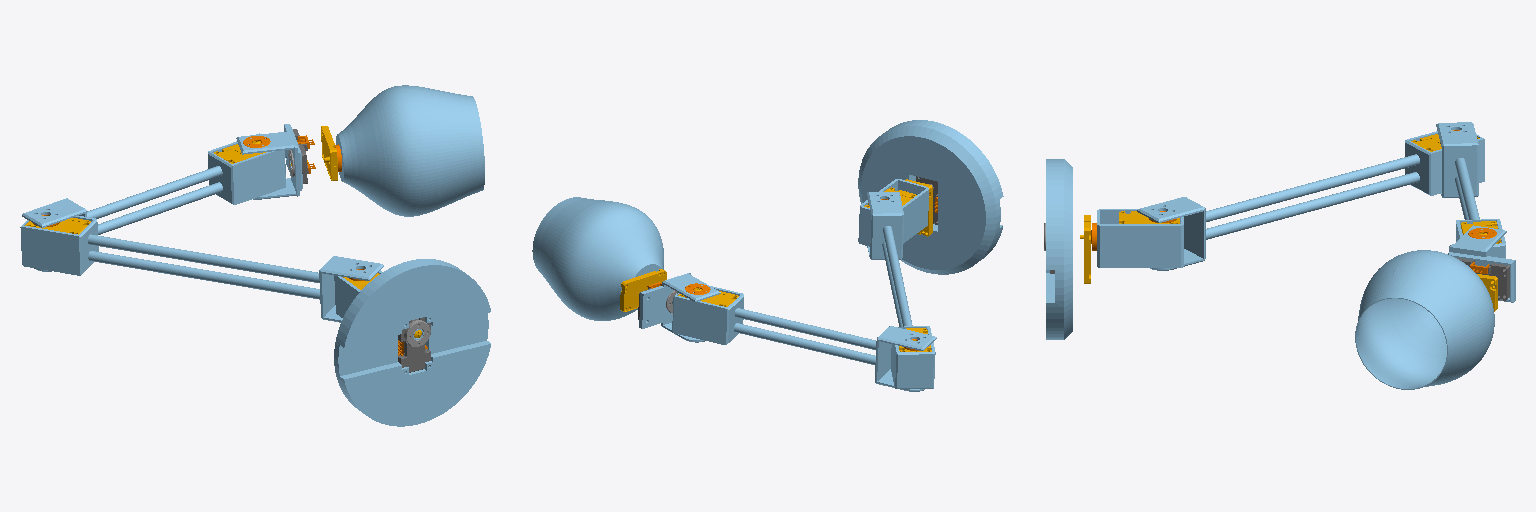
--- What the picture shows (computed from the rendered views, not written in the file) ---
Views: 3 orthographic renders of the robot side by side, from view 1: azimuth 30°, elevation 25°; view 2: azimuth 150°, elevation 25°; view 3: azimuth 270°, elevation 25°.
Robot: lelamp — 6 links, 5 joints (5 revolute); root link dc15_a01_dummy_assy_idle_asm; default pose: every joint at zero.
Visible links, largest first — view 1: dc15_a01_dummy_assy_idle_asm, lamp_head, dc15_a01_dummy_assy_idle_asm_2, arm_length_10cm, angle_joint, square_joint; view 2: dc15_a01_dummy_assy_idle_asm, lamp_head, arm_length_10cm, dc15_a01_dummy_assy_idle_asm_2, angle_joint, square_joint; view 3: lamp_head, dc15_a01_dummy_assy_idle_asm_2, dc15_a01_dummy_assy_idle_asm, square_joint, arm_length_10cm, angle_joint.
Link boxes in pixels (bbox=[...]): dc15_a01_dummy_assy_idle_asm: bbox=[334, 259, 490, 426]; lamp_head: bbox=[336, 85, 484, 216]; dc15_a01_dummy_assy_idle_asm_2: bbox=[20, 215, 383, 322]; arm_length_10cm: bbox=[22, 133, 285, 271]; angle_joint: bbox=[236, 124, 341, 199]; square_joint: bbox=[334, 269, 382, 317]; dc15_a01_dummy_assy_idle_asm: bbox=[858, 120, 1003, 274]; lamp_head: bbox=[532, 197, 663, 320]; arm_length_10cm: bbox=[672, 283, 936, 391]; dc15_a01_dummy_assy_idle_asm_2: bbox=[867, 192, 935, 388]; angle_joint: bbox=[620, 269, 720, 342]; square_joint: bbox=[858, 179, 928, 246]; lamp_head: bbox=[1355, 250, 1494, 389]; dc15_a01_dummy_assy_idle_asm_2: bbox=[1137, 130, 1484, 270]; dc15_a01_dummy_assy_idle_asm: bbox=[1044, 159, 1096, 339]; square_joint: bbox=[1097, 209, 1183, 267]; arm_length_10cm: bbox=[1436, 122, 1505, 258]; angle_joint: bbox=[1448, 225, 1515, 311].
Size in the robot's own frame: 0.2945 by 0.2605 by 0.1 metres.
Meshes: 15 distinct files referenced, 51 mesh visuals loaded (13 binary STL); not drawn: 10 (reference not matched to a file when rendering).

URDF robot description (lelamp):
<?xml version="1.0" ?>
<!-- Generated using onshape-to-robot -->
<!-- Onshape document_id: 7ff6d1fd85a1383ea9f71557 -->
<robot name="lelamp">
  <!-- Link dc15_a01_dummy_assy_idle_asm -->
  <link name="dc15_a01_dummy_assy_idle_asm">
    <inertial>
      <origin xyz="-1.88967e-06 0.00939762 -0.00732928" rpy="0 0 0"/>
      <mass value="0.140913"/>
      <inertia ixx="9.08799e-05" ixy="1.89009e-09" ixz="-1.81155e-09" iyy="0.000163373" iyz="-1.28621e-07" izz="8.05617e-05"/>
    </inertial>
    <!-- Part base -->
    <visual>
      <origin xyz="-1.73472e-18 0.0008 -0.0075" rpy="-1.5708 -0 0"/>
      <geometry>
        <mesh filename="package://assets/base.stl"/>
      </geometry>
      <material name="base_material">
        <color rgba="0.615686 0.811765 0.929412 1"/>
      </material>
    </visual>
    <collision>
      <origin xyz="-1.73472e-18 0.0008 -0.0075" rpy="-1.5708 -0 0"/>
      <geometry>
        <mesh filename="package://assets/base.stl"/>
      </geometry>
    </collision>
    <!-- Part dc15_a01_led_cap2_dummy -->
    <visual>
      <origin xyz="0 0.0047 0.0075" rpy="1.5708 -0 0"/>
      <geometry>
        <mesh filename="package://assets/dc15_a01_led_cap2_dummy.stl"/>
      </geometry>
      <material name="dc15_a01_led_cap2_dummy_material">
        <color rgba="0.768627 0.886275 0.952941 1"/>
      </material>
    </visual>
    <collision>
      <origin xyz="0 0.0047 0.0075" rpy="1.5708 -0 0"/>
      <geometry>
        <mesh filename="package://assets/dc15_a01_led_cap2_dummy.stl"/>
      </geometry>
    </collision>
    <!-- Part bts2_m2_6x8 -->
    <visual>
      <origin xyz="0 0.0272 0" rpy="0 -0 0"/>
      <geometry>
        <mesh filename="package://assets/bts2_m2_6x8.stl"/>
      </geometry>
      <material name="bts2_m2_6x8_material">
        <color rgba="0.980392 0.713725 0.00392157 1"/>
      </material>
    </visual>
    <collision>
      <origin xyz="0 0.0272 0" rpy="0 -0 0"/>
      <geometry>
        <mesh filename="package://assets/bts2_m2_6x8.stl"/>
      </geometry>
    </collision>
    <!-- Part b3b_eh -->
    <visual>
      <origin xyz="0.0077 0.0119 -0.009" rpy="-3.14159 -1.5708 0"/>
      <geometry>
        <mesh filename="package://assets/b3b_eh.stl"/>
      </geometry>
      <material name="b3b_eh_material">
        <color rgba="0.972549 0.529412 0.00392157 1"/>
      </material>
    </visual>
    <collision>
      <origin xyz="0.0077 0.0119 -0.009" rpy="-3.14159 -1.5708 0"/>
      <geometry>
        <mesh filename="package://assets/b3b_eh.stl"/>
      </geometry>
    </collision>
    <!-- Part b3b_eh_2 -->
    <visual>
      <origin xyz="-0.0077 0.0119 -0.009" rpy="-3.14159 1.5708 0"/>
      <geometry>
        <mesh filename="package://assets/b3b_eh.stl"/>
      </geometry>
      <material name="b3b_eh_2_material">
        <color rgba="0.972549 0.529412 0.00392157 1"/>
      </material>
    </visual>
    <collision>
      <origin xyz="-0.0077 0.0119 -0.009" rpy="-3.14159 1.5708 0"/>
      <geometry>
        <mesh filename="package://assets/b3b_eh.stl"/>
      </geometry>
    </collision>
    <!-- Part dc15_a01_case_m_dummy -->
    <visual>
      <origin xyz="0 0.0223 0" rpy="1.5708 -0 3.14159"/>
      <geometry>
        <mesh filename="package://assets/dc15_a01_case_m_dummy.stl"/>
      </geometry>
      <material name="dc15_a01_case_m_dummy_material">
        <color rgba="0.615686 0.811765 0.929412 1"/>
      </material>
    </visual>
    <collision>
      <origin xyz="0 0.0223 0" rpy="1.5708 -0 3.14159"/>
      <geometry>
        <mesh filename="package://assets/dc15_a01_case_m_dummy.stl"/>
      </geometry>
    </collision>
    <!-- Part bts2_m2_6x8_2 -->
    <visual>
      <origin xyz="0 0.0016 0" rpy="0 -0 3.14159"/>
      <geometry>
        <mesh filename="package://assets/bts2_m2_6x8.stl"/>
      </geometry>
      <material name="bts2_m2_6x8_2_material">
        <color rgba="0.980392 0.713725 0.00392157 1"/>
      </material>
    </visual>
    <collision>
      <origin xyz="0 0.0016 0" rpy="0 -0 3.14159"/>
      <geometry>
        <mesh filename="package://assets/bts2_m2_6x8.stl"/>
      </geometry>
    </collision>
    <!-- Part dc15_a01_horn_dummy -->
    <visual>
      <origin xyz="0 0.0259 0" rpy="0 -0 0"/>
      <geometry>
        <mesh filename="package://assets/dc15_a01_horn_dummy.stl"/>
      </geometry>
      <material name="dc15_a01_horn_dummy_material">
        <color rgba="0.972549 0.529412 0.00392157 1"/>
      </material>
    </visual>
    <collision>
      <origin xyz="0 0.0259 0" rpy="0 -0 0"/>
      <geometry>
        <mesh filename="package://assets/dc15_a01_horn_dummy.stl"/>
      </geometry>
    </collision>
    <!-- Part dc15_a01_case_f_dummy -->
    <visual>
      <origin xyz="0 0.0223 0" rpy="1.5708 -0 3.14159"/>
      <geometry>
        <mesh filename="package://assets/dc15_a01_case_f_dummy.stl"/>
      </geometry>
      <material name="dc15_a01_case_f_dummy_material">
        <color rgba="0.980392 0.713725 0.00392157 1"/>
      </material>
    </visual>
    <collision>
      <origin xyz="0 0.0223 0" rpy="1.5708 -0 3.14159"/>
      <geometry>
        <mesh filename="package://assets/dc15_a01_case_f_dummy.stl"/>
      </geometry>
    </collision>
    <!-- Part dc15_a01_case_b_dummy -->
    <visual>
      <origin xyz="0 0.0028 0" rpy="1.5708 -0 3.14159"/>
      <geometry>
        <mesh filename="package://assets/dc15_a01_case_b_dummy.stl"/>
      </geometry>
      <material name="dc15_a01_case_b_dummy_material">
        <color rgba="0.498039 0.498039 0.498039 1"/>
      </material>
    </visual>
    <collision>
      <origin xyz="0 0.0028 0" rpy="1.5708 -0 3.14159"/>
      <geometry>
        <mesh filename="package://assets/dc15_a01_case_b_dummy.stl"/>
      </geometry>
    </collision>
    <!-- Part dc15_a01_horn_idle2_dummy -->
    <visual>
      <origin xyz="0 0.0027 0" rpy="-1.5708 -0 3.14159"/>
      <geometry>
        <mesh filename="package://assets/dc15_a01_horn_idle2_dummy.stl"/>
      </geometry>
      <material name="dc15_a01_horn_idle2_dummy_material">
        <color rgba="0.647059 0.647059 0.647059 1"/>
      </material>
    </visual>
    <collision>
      <origin xyz="0 0.0027 0" rpy="-1.5708 -0 3.14159"/>
      <geometry>
        <mesh filename="package://assets/dc15_a01_horn_idle2_dummy.stl"/>
      </geometry>
    </collision>
    <!-- Part dc15_a01_idle_cap_dummy -->
    <visual>
      <origin xyz="0 -7.80626e-18 0" rpy="0 -0 3.14159"/>
      <geometry>
        <mesh filename="package://assets/dc15_a01_idle_cap_dummy.stl"/>
      </geometry>
      <material name="dc15_a01_idle_cap_dummy_material">
        <color rgba="0.615686 0.811765 0.929412 1"/>
      </material>
    </visual>
    <collision>
      <origin xyz="0 -7.80626e-18 0" rpy="0 -0 3.14159"/>
      <geometry>
        <mesh filename="package://assets/dc15_a01_idle_cap_dummy.stl"/>
      </geometry>
    </collision>
  </link>
  <!-- Link square_joint -->
  <link name="square_joint">
    <inertial>
      <origin xyz="-8.75044e-06 -0.000538186 0.0283784" rpy="0 0 0"/>
      <mass value="0.0304303"/>
      <inertia ixx="6.68219e-06" ixy="6.6143e-10" ixz="-1.534e-09" iyy="6.31947e-06" iyz="-1.78501e-07" izz="3.33001e-06"/>
    </inertial>
    <!-- Part square_joint -->
    <visual>
      <origin xyz="-5.83045e-36 0 0" rpy="0 -0 -1.31899e-18"/>
      <geometry>
        <mesh filename="package://assets/square_joint.stl"/>
      </geometry>
      <material name="square_joint_material">
        <color rgba="0.615686 0.811765 0.929412 1"/>
      </material>
    </visual>
    <collision>
      <origin xyz="-5.83045e-36 0 0" rpy="0 -0 -1.31899e-18"/>
      <geometry>
        <mesh filename="package://assets/square_joint.stl"/>
      </geometry>
    </collision>
    <!-- Part dc15_a01_led_cap2_dummy_2 -->
    <visual>
      <origin xyz="-8.35134e-18 -0.00985 0.04425" rpy="1.5708 -0 -1.31899e-18"/>
      <geometry>
        <mesh filename="package://assets/dc15_a01_led_cap2_dummy.stl"/>
      </geometry>
      <material name="dc15_a01_led_cap2_dummy_2_material">
        <color rgba="0.768627 0.886275 0.952941 1"/>
      </material>
    </visual>
    <collision>
      <origin xyz="-8.35134e-18 -0.00985 0.04425" rpy="1.5708 -0 -1.31899e-18"/>
      <geometry>
        <mesh filename="package://assets/dc15_a01_led_cap2_dummy.stl"/>
      </geometry>
    </collision>
    <!-- Part bts2_m2_6x8_3 -->
    <visual>
      <origin xyz="2.12657e-18 0.01265 0.03675" rpy="0 -0 -1.31899e-18"/>
      <geometry>
        <mesh filename="package://assets/bts2_m2_6x8.stl"/>
      </geometry>
      <material name="bts2_m2_6x8_3_material">
        <color rgba="0.980392 0.713725 0.00392157 1"/>
      </material>
    </visual>
    <collision>
      <origin xyz="2.12657e-18 0.01265 0.03675" rpy="0 -0 -1.31899e-18"/>
      <geometry>
        <mesh filename="package://assets/bts2_m2_6x8.stl"/>
      </geometry>
    </collision>
    <!-- Part b3b_eh_3 -->
    <visual>
      <origin xyz="0.0077 -0.00265 0.02775" rpy="3.14159 -1.5708 0"/>
      <geometry>
        <mesh filename="package://assets/b3b_eh.stl"/>
      </geometry>
      <material name="b3b_eh_3_material">
        <color rgba="0.972549 0.529412 0.00392157 1"/>
      </material>
    </visual>
    <collision>
      <origin xyz="0.0077 -0.00265 0.02775" rpy="3.14159 -1.5708 0"/>
      <geometry>
        <mesh filename="package://assets/b3b_eh.stl"/>
      </geometry>
    </collision>
    <!-- Part b3b_eh_4 -->
    <visual>
      <origin xyz="-0.0077 -0.00265 0.02775" rpy="-3.14159 1.5708 0"/>
      <geometry>
        <mesh filename="package://assets/b3b_eh.stl"/>
      </geometry>
      <material name="b3b_eh_4_material">
        <color rgba="0.972549 0.529412 0.00392157 1"/>
      </material>
    </visual>
    <collision>
      <origin xyz="-0.0077 -0.00265 0.02775" rpy="-3.14159 1.5708 0"/>
      <geometry>
        <mesh filename="package://assets/b3b_eh.stl"/>
      </geometry>
    </collision>
    <!-- Part dc15_a01_case_m_dummy_2 -->
    <visual>
      <origin xyz="-5.2338e-18 0.00775 0.03675" rpy="1.5708 -0 3.14159"/>
      <geometry>
        <mesh filename="package://assets/dc15_a01_case_m_dummy.stl"/>
      </geometry>
      <material name="dc15_a01_case_m_dummy_2_material">
        <color rgba="0.615686 0.811765 0.929412 1"/>
      </material>
    </visual>
    <collision>
      <origin xyz="-5.2338e-18 0.00775 0.03675" rpy="1.5708 -0 3.14159"/>
      <geometry>
        <mesh filename="package://assets/dc15_a01_case_m_dummy.stl"/>
      </geometry>
    </collision>
    <!-- Part bts2_m2_6x8_4 -->
    <visual>
      <origin xyz="-3.14793e-18 -0.01295 0.03675" rpy="0 -0 3.14159"/>
      <geometry>
        <mesh filename="package://assets/bts2_m2_6x8.stl"/>
      </geometry>
      <material name="bts2_m2_6x8_4_material">
        <color rgba="0.980392 0.713725 0.00392157 1"/>
      </material>
    </visual>
    <collision>
      <origin xyz="-3.14793e-18 -0.01295 0.03675" rpy="0 -0 3.14159"/>
      <geometry>
        <mesh filename="package://assets/bts2_m2_6x8.stl"/>
      </geometry>
    </collision>
    <!-- Part dc15_a01_horn_dummy_2 -->
    <visual>
      <origin xyz="1.44112e-20 0.01135 0.03675" rpy="0 -0 -1.31899e-18"/>
      <geometry>
        <mesh filename="package://assets/dc15_a01_horn_dummy.stl"/>
      </geometry>
      <material name="dc15_a01_horn_dummy_2_material">
        <color rgba="0.972549 0.529412 0.00392157 1"/>
      </material>
    </visual>
    <collision>
      <origin xyz="1.44112e-20 0.01135 0.03675" rpy="0 -0 -1.31899e-18"/>
      <geometry>
        <mesh filename="package://assets/dc15_a01_horn_dummy.stl"/>
      </geometry>
    </collision>
    <!-- Part dc15_a01_case_f_dummy_2 -->
    <visual>
      <origin xyz="-5.2338e-18 0.00775 0.03675" rpy="1.5708 -0 3.14159"/>
      <geometry>
        <mesh filename="package://assets/dc15_a01_case_f_dummy.stl"/>
      </geometry>
      <material name="dc15_a01_case_f_dummy_2_material">
        <color rgba="0.980392 0.713725 0.00392157 1"/>
      </material>
    </visual>
    <collision>
      <origin xyz="-5.2338e-18 0.00775 0.03675" rpy="1.5708 -0 3.14159"/>
      <geometry>
        <mesh filename="package://assets/dc15_a01_case_f_dummy.stl"/>
      </geometry>
    </collision>
    <!-- Part dc15_a01_case_b_dummy_2 -->
    <visual>
      <origin xyz="-3.4043e-18 -0.01175 0.03675" rpy="1.5708 -0 3.14159"/>
      <geometry>
        <mesh filename="package://assets/dc15_a01_case_b_dummy.stl"/>
      </geometry>
      <material name="dc15_a01_case_b_dummy_2_material">
        <color rgba="0.498039 0.498039 0.498039 1"/>
      </material>
    </visual>
    <collision>
      <origin xyz="-3.4043e-18 -0.01175 0.03675" rpy="1.5708 -0 3.14159"/>
      <geometry>
        <mesh filename="package://assets/dc15_a01_case_b_dummy.stl"/>
      </geometry>
    </collision>
    <!-- Part dc15_a01_horn_idle2_dummy_2 -->
    <visual>
      <origin xyz="-6.61309e-19 -0.01185 0.03675" rpy="-1.5708 -0 3.14159"/>
      <geometry>
        <mesh filename="package://assets/dc15_a01_horn_idle2_dummy.stl"/>
      </geometry>
      <material name="dc15_a01_horn_idle2_dummy_2_material">
        <color rgba="0.647059 0.647059 0.647059 1"/>
      </material>
    </visual>
    <collision>
      <origin xyz="-6.61309e-19 -0.01185 0.03675" rpy="-1.5708 -0 3.14159"/>
      <geometry>
        <mesh filename="package://assets/dc15_a01_horn_idle2_dummy.stl"/>
      </geometry>
    </collision>
    <!-- Part dc15_a01_idle_cap_dummy_2 -->
    <visual>
      <origin xyz="-1.47751e-17 -0.01455 0.03675" rpy="0 -0 3.14159"/>
      <geometry>
        <mesh filename="package://assets/dc15_a01_idle_cap_dummy.stl"/>
      </geometry>
      <material name="dc15_a01_idle_cap_dummy_2_material">
        <color rgba="0.615686 0.811765 0.929412 1"/>
      </material>
    </visual>
    <collision>
      <origin xyz="-1.47751e-17 -0.01455 0.03675" rpy="0 -0 3.14159"/>
      <geometry>
        <mesh filename="package://assets/dc15_a01_idle_cap_dummy.stl"/>
      </geometry>
    </collision>
  </link>
  <!-- Link dc15_a01_dummy_assy_idle_asm_2 -->
  <link name="dc15_a01_dummy_assy_idle_asm_2">
    <inertial>
      <origin xyz="0.0876363 -0.123134 -0.0137912" rpy="0 0 0"/>
      <mass value="0.0439213"/>
      <inertia ixx="0.000130113" ixy="8.9603e-05" ixz="-5.40198e-07" iyy="6.81333e-05" iyz="7.5607e-07" izz="0.000192616"/>
    </inertial>
    <!-- Part arm_length_15cm -->
    <visual>
      <origin xyz="6.88141e-18 -2.77556e-17 0.002" rpy="-3.14159 1.61703e-16 0.617782"/>
      <geometry>
        <mesh filename="package://assets/arm_length_15cm.stl"/>
      </geometry>
      <material name="arm_length_15cm_material">
        <color rgba="0.615686 0.811765 0.929412 1"/>
      </material>
    </visual>
    <collision>
      <origin xyz="6.88141e-18 -2.77556e-17 0.002" rpy="-3.14159 1.61703e-16 0.617782"/>
      <geometry>
        <mesh filename="package://assets/arm_length_15cm.stl"/>
      </geometry>
    </collision>
    <!-- Part dc15_a01_led_cap2_dummy_3 -->
    <visual>
      <origin xyz="0.119959 -0.168391 -0.0231" rpy="3.14159 3.6742e-17 0.617782"/>
      <geometry>
        <mesh filename="package://assets/dc15_a01_led_cap2_dummy.stl"/>
      </geometry>
      <material name="dc15_a01_led_cap2_dummy_3_material">
        <color rgba="0.768627 0.886275 0.952941 1"/>
      </material>
    </visual>
    <collision>
      <origin xyz="0.119959 -0.168391 -0.0231" rpy="3.14159 3.6742e-17 0.617782"/>
      <geometry>
        <mesh filename="package://assets/dc15_a01_led_cap2_dummy.stl"/>
      </geometry>
    </collision>
    <!-- Part bts2_m2_6x8_5 -->
    <visual>
      <origin xyz="0.115615 -0.162277 -0.0006" rpy="1.5708 3.6742e-17 0.617782"/>
      <geometry>
        <mesh filename="package://assets/bts2_m2_6x8.stl"/>
      </geometry>
      <material name="bts2_m2_6x8_5_material">
        <color rgba="0.980392 0.713725 0.00392157 1"/>
      </material>
    </visual>
    <collision>
      <origin xyz="0.115615 -0.162277 -0.0006" rpy="1.5708 3.6742e-17 0.617782"/>
      <geometry>
        <mesh filename="package://assets/bts2_m2_6x8.stl"/>
      </geometry>
    </collision>
    <!-- Part b3b_eh_5 -->
    <visual>
      <origin xyz="0.116679 -0.15048 -0.0159" rpy="-1.5708 -3.63721e-15 -0.953015"/>
      <geometry>
        <mesh filename="package://assets/b3b_eh.stl"/>
      </geometry>
      <material name="b3b_eh_5_material">
        <color rgba="0.972549 0.529412 0.00392157 1"/>
      </material>
    </visual>
    <collision>
      <origin xyz="0.116679 -0.15048 -0.0159" rpy="-1.5708 -3.63721e-15 -0.953015"/>
      <geometry>
        <mesh filename="package://assets/b3b_eh.stl"/>
      </geometry>
    </collision>
    <!-- Part b3b_eh_6 -->
    <visual>
      <origin xyz="0.104125 -0.1594 -0.0159" rpy="-1.5708 3.63721e-15 2.18858"/>
      <geometry>
        <mesh filename="package://assets/b3b_eh.stl"/>
      </geometry>
      <material name="b3b_eh_6_material">
        <color rgba="0.972549 0.529412 0.00392157 1"/>
      </material>
    </visual>
    <collision>
      <origin xyz="0.104125 -0.1594 -0.0159" rpy="-1.5708 3.63721e-15 2.18858"/>
      <geometry>
        <mesh filename="package://assets/b3b_eh.stl"/>
      </geometry>
    </collision>
    <!-- Part dc15_a01_case_m_dummy_3 -->
    <visual>
      <origin xyz="0.115615 -0.162277 -0.0055" rpy="3.63721e-15 -3.6742e-17 -2.52381"/>
      <geometry>
        <mesh filename="package://assets/dc15_a01_case_m_dummy.stl"/>
      </geometry>
      <material name="dc15_a01_case_m_dummy_3_material">
        <color rgba="0.615686 0.811765 0.929412 1"/>
      </material>
    </visual>
    <collision>
      <origin xyz="0.115615 -0.162277 -0.0055" rpy="3.63721e-15 -3.6742e-17 -2.52381"/>
      <geometry>
        <mesh filename="package://assets/dc15_a01_case_m_dummy.stl"/>
      </geometry>
    </collision>
    <!-- Part bts2_m2_6x8_6 -->
    <visual>
      <origin xyz="0.115615 -0.162277 -0.0262" rpy="-1.5708 -3.6742e-17 -2.52381"/>
      <geometry>
        <mesh filename="package://assets/bts2_m2_6x8.stl"/>
      </geometry>
      <material name="bts2_m2_6x8_6_material">
        <color rgba="0.980392 0.713725 0.00392157 1"/>
      </material>
    </visual>
    <collision>
      <origin xyz="0.115615 -0.162277 -0.0262" rpy="-1.5708 -3.6742e-17 -2.52381"/>
      <geometry>
        <mesh filename="package://assets/bts2_m2_6x8.stl"/>
      </geometry>
    </collision>
    <!-- Part dc15_a01_horn_dummy_3 -->
    <visual>
      <origin xyz="0.115615 -0.162277 -0.0019" rpy="1.5708 3.6742e-17 0.617782"/>
      <geometry>
        <mesh filename="package://assets/dc15_a01_horn_dummy.stl"/>
      </geometry>
      <material name="dc15_a01_horn_dummy_3_material">
        <color rgba="0.972549 0.529412 0.00392157 1"/>
      </material>
    </visual>
    <collision>
      <origin xyz="0.115615 -0.162277 -0.0019" rpy="1.5708 3.6742e-17 0.617782"/>
      <geometry>
        <mesh filename="package://assets/dc15_a01_horn_dummy.stl"/>
      </geometry>
    </collision>
    <!-- Part dc15_a01_case_f_dummy_3 -->
    <visual>
      <origin xyz="0.115615 -0.162277 -0.0055" rpy="3.63721e-15 -3.6742e-17 -2.52381"/>
      <geometry>
        <mesh filename="package://assets/dc15_a01_case_f_dummy.stl"/>
      </geometry>
      <material name="dc15_a01_case_f_dummy_3_material">
        <color rgba="0.980392 0.713725 0.00392157 1"/>
      </material>
    </visual>
    <collision>
      <origin xyz="0.115615 -0.162277 -0.0055" rpy="3.63721e-15 -3.6742e-17 -2.52381"/>
      <geometry>
        <mesh filename="package://assets/dc15_a01_case_f_dummy.stl"/>
      </geometry>
    </collision>
    <!-- Part dc15_a01_case_b_dummy_3 -->
    <visual>
      <origin xyz="0.115615 -0.162277 -0.025" rpy="3.63721e-15 -3.6742e-17 -2.52381"/>
      <geometry>
        <mesh filename="package://assets/dc15_a01_case_b_dummy.stl"/>
      </geometry>
      <material name="dc15_a01_case_b_dummy_3_material">
        <color rgba="0.498039 0.498039 0.498039 1"/>
      </material>
    </visual>
    <collision>
      <origin xyz="0.115615 -0.162277 -0.025" rpy="3.63721e-15 -3.6742e-17 -2.52381"/>
      <geometry>
        <mesh filename="package://assets/dc15_a01_case_b_dummy.stl"/>
      </geometry>
    </collision>
    <!-- Part dc15_a01_horn_idle2_dummy_3 -->
    <visual>
      <origin xyz="0.115615 -0.162277 -0.0251" rpy="-3.14159 -3.6742e-17 -2.52381"/>
      <geometry>
        <mesh filename="package://assets/dc15_a01_horn_idle2_dummy.stl"/>
      </geometry>
      <material name="dc15_a01_horn_idle2_dummy_3_material">
        <color rgba="0.647059 0.647059 0.647059 1"/>
      </material>
    </visual>
    <collision>
      <origin xyz="0.115615 -0.162277 -0.0251" rpy="-3.14159 -3.6742e-17 -2.52381"/>
      <geometry>
        <mesh filename="package://assets/dc15_a01_horn_idle2_dummy.stl"/>
      </geometry>
    </collision>
    <!-- Part dc15_a01_idle_cap_dummy_3 -->
    <visual>
      <origin xyz="0.115615 -0.162277 -0.0278" rpy="-1.5708 -3.6742e-17 -2.52381"/>
      <geometry>
        <mesh filename="package://assets/dc15_a01_idle_cap_dummy.stl"/>
      </geometry>
      <material name="dc15_a01_idle_cap_dummy_3_material">
        <color rgba="0.615686 0.811765 0.929412 1"/>
      </material>
    </visual>
    <collision>
      <origin xyz="0.115615 -0.162277 -0.0278" rpy="-1.5708 -3.6742e-17 -2.52381"/>
      <geometry>
        <mesh filename="package://assets/dc15_a01_idle_cap_dummy.stl"/>
      </geometry>
    </collision>
  </link>
  <!-- Link arm_length_10cm -->
  <link name="arm_length_10cm">
    <inertial>
      <origin xyz="0.000125498 -0.115742 -0.013751" rpy="0 0 0"/>
      <mass value="0.040387"/>
      <inertia ixx="9.51594e-05" ixy="1.396e-07" ixz="-2.20999e-09" iyy="4.19848e-06" iyz="6.104e-07" izz="9.39396e-05"/>
    </inertial>
    <!-- Part arm_length_10cm -->
    <visual>
      <origin xyz="2.77556e-17 1.38778e-17 0.002" rpy="3.14159 3.48352e-19 -9.71169e-18"/>
      <geometry>
        <mesh filename="package://assets/arm_length_10cm.stl"/>
      </geometry>
      <material name="arm_length_10cm_material">
        <color rgba="0.615686 0.811765 0.929412 1"/>
      </material>
    </visual>
    <collision>
      <origin xyz="2.77556e-17 1.38778e-17 0.002" rpy="3.14159 3.48352e-19 -9.71169e-18"/>
      <geometry>
        <mesh filename="package://assets/arm_length_10cm.stl"/>
      </geometry>
    </collision>
    <!-- Part dc15_a01_led_cap2_dummy_4 -->
    <visual>
      <origin xyz="0.00025 -0.15675 -0.0231" rpy="-3.14159 -3.0807e-17 1.5375e-16"/>
      <geometry>
        <mesh filename="package://assets/dc15_a01_led_cap2_dummy.stl"/>
      </geometry>
      <material name="dc15_a01_led_cap2_dummy_4_material">
        <color rgba="0.768627 0.886275 0.952941 1"/>
      </material>
    </visual>
    <collision>
      <origin xyz="0.00025 -0.15675 -0.0231" rpy="-3.14159 -3.0807e-17 1.5375e-16"/>
      <geometry>
        <mesh filename="package://assets/dc15_a01_led_cap2_dummy.stl"/>
      </geometry>
    </collision>
    <!-- Part bts2_m2_6x8_7 -->
    <visual>
      <origin xyz="0.00025 -0.14925 -0.0006" rpy="1.5708 1.12133e-14 1.83203e-14"/>
      <geometry>
        <mesh filename="package://assets/bts2_m2_6x8.stl"/>
      </geometry>
      <material name="bts2_m2_6x8_7_material">
        <color rgba="0.980392 0.713725 0.00392157 1"/>
      </material>
    </visual>
    <collision>
      <origin xyz="0.00025 -0.14925 -0.0006" rpy="1.5708 1.12133e-14 1.83203e-14"/>
      <geometry>
        <mesh filename="package://assets/bts2_m2_6x8.stl"/>
      </geometry>
    </collision>
    <!-- Part b3b_eh_7 -->
    <visual>
      <origin xyz="0.00795 -0.14025 -0.0159" rpy="-1.5708 8.71289e-16 -1.5708"/>
      <geometry>
        <mesh filename="package://assets/b3b_eh.stl"/>
      </geometry>
      <material name="b3b_eh_7_material">
        <color rgba="0.972549 0.529412 0.00392157 1"/>
      </material>
    </visual>
    <collision>
      <origin xyz="0.00795 -0.14025 -0.0159" rpy="-1.5708 8.71289e-16 -1.5708"/>
      <geometry>
        <mesh filename="package://assets/b3b_eh.stl"/>
      </geometry>
    </collision>
    <!-- Part b3b_eh_8 -->
    <visual>
      <origin xyz="-0.00745 -0.14025 -0.0159" rpy="-1.5708 -8.71289e-16 1.5708"/>
      <geometry>
        <mesh filename="package://assets/b3b_eh.stl"/>
      </geometry>
      <material name="b3b_eh_8_material">
        <color rgba="0.972549 0.529412 0.00392157 1"/>
      </material>
    </visual>
    <collision>
      <origin xyz="-0.00745 -0.14025 -0.0159" rpy="-1.5708 -8.71289e-16 1.5708"/>
      <geometry>
        <mesh filename="package://assets/b3b_eh.stl"/>
      </geometry>
    </collision>
    <!-- Part dc15_a01_case_m_dummy_4 -->
    <visual>
      <origin xyz="0.00025 -0.14925 -0.0055" rpy="-8.99025e-16 3.0807e-17 -3.14159"/>
      <geometry>
        <mesh filename="package://assets/dc15_a01_case_m_dummy.stl"/>
      </geometry>
      <material name="dc15_a01_case_m_dummy_4_material">
        <color rgba="0.615686 0.811765 0.929412 1"/>
      </material>
    </visual>
    <collision>
      <origin xyz="0.00025 -0.14925 -0.0055" rpy="-8.99025e-16 3.0807e-17 -3.14159"/>
      <geometry>
        <mesh filename="package://assets/dc15_a01_case_m_dummy.stl"/>
      </geometry>
    </collision>
    <!-- Part bts2_m2_6x8_8 -->
    <visual>
      <origin xyz="0.00025 -0.14925 -0.0262" rpy="-1.5708 3.82232e-14 -3.14159"/>
      <geometry>
        <mesh filename="package://assets/bts2_m2_6x8.stl"/>
      </geometry>
      <material name="bts2_m2_6x8_8_material">
        <color rgba="0.980392 0.713725 0.00392157 1"/>
      </material>
    </visual>
    <collision>
      <origin xyz="0.00025 -0.14925 -0.0262" rpy="-1.5708 3.82232e-14 -3.14159"/>
      <geometry>
        <mesh filename="package://assets/bts2_m2_6x8.stl"/>
      </geometry>
    </collision>
    <!-- Part dc15_a01_horn_dummy_4 -->
    <visual>
      <origin xyz="0.00025 -0.14925 -0.0019" rpy="1.5708 1.12133e-14 1.83203e-14"/>
      <geometry>
        <mesh filename="package://assets/dc15_a01_horn_dummy.stl"/>
      </geometry>
      <material name="dc15_a01_horn_dummy_4_material">
        <color rgba="0.972549 0.529412 0.00392157 1"/>
      </material>
    </visual>
    <collision>
      <origin xyz="0.00025 -0.14925 -0.0019" rpy="1.5708 1.12133e-14 1.83203e-14"/>
      <geometry>
        <mesh filename="package://assets/dc15_a01_horn_dummy.stl"/>
      </geometry>
    </collision>
    <!-- Part dc15_a01_case_f_dummy_4 -->
    <visual>
      <origin xyz="0.00025 -0.14925 -0.0055" rpy="-8.99025e-16 3.0807e-17 -3.14159"/>
      <geometry>
        <mesh filename="package://assets/dc15_a01_case_f_dummy.stl"/>
      </geometry>
      <material name="dc15_a01_case_f_dummy_4_material">
        <color rgba="0.980392 0.713725 0.00392157 1"/>
      </material>
    </visual>
    <collision>
      <origin xyz="0.00025 -0.14925 -0.0055" rpy="-8.99025e-16 3.0807e-17 -3.14159"/>
      <geometry>
        <mesh filename="package://assets/dc15_a01_case_f_dummy.stl"/>
      </geometry>
    </collision>
    <!-- Part dc15_a01_case_b_dummy_4 -->
    <visual>
      <origin xyz="0.00025 -0.14925 -0.025" rpy="-8.99025e-16 3.0807e-17 -3.14159"/>
      <geometry>
        <mesh filename="package://assets/dc15_a01_case_b_dummy.stl"/>
      </geometry>
      <material name="dc15_a01_case_b_dummy_4_material">
        <color rgba="0.498039 0.498039 0.498039 1"/>
      </material>
    </visual>
    <collision>
      <origin xyz="0.00025 -0.14925 -0.025" rpy="-8.99025e-16 3.0807e-17 -3.14159"/>
      <geometry>
        <mesh filename="package://assets/dc15_a01_case_b_dummy.stl"/>
      </geometry>
    </collision>
    <!-- Part dc15_a01_horn_idle2_dummy_4 -->
    <visual>
      <origin xyz="0.00025 -0.14925 -0.0251" rpy="3.14159 3.36066e-14 -3.14159"/>
      <geometry>
        <mesh filename="package://assets/dc15_a01_horn_idle2_dummy.stl"/>
      </geometry>
      <material name="dc15_a01_horn_idle2_dummy_4_material">
        <color rgba="0.647059 0.647059 0.647059 1"/>
      </material>
    </visual>
    <collision>
      <origin xyz="0.00025 -0.14925 -0.0251" rpy="3.14159 3.36066e-14 -3.14159"/>
      <geometry>
        <mesh filename="package://assets/dc15_a01_horn_idle2_dummy.stl"/>
      </geometry>
    </collision>
    <!-- Part dc15_a01_idle_cap_dummy_4 -->
    <visual>
      <origin xyz="0.00025 -0.14925 -0.0278" rpy="-1.5708 3.82232e-14 -3.14159"/>
      <geometry>
        <mesh filename="package://assets/dc15_a01_idle_cap_dummy.stl"/>
      </geometry>
      <material name="dc15_a01_idle_cap_dummy_4_material">
        <color rgba="0.615686 0.811765 0.929412 1"/>
      </material>
    </visual>
    <collision>
      <origin xyz="0.00025 -0.14925 -0.0278" rpy="-1.5708 3.82232e-14 -3.14159"/>
      <geometry>
        <mesh filename="package://assets/dc15_a01_idle_cap_dummy.stl"/>
      </geometry>
    </collision>
  </link>
  <!-- Link angle_joint -->
  <link name="angle_joint">
    <inertial>
      <origin xyz="-0.00767354 -0.0293086 -0.0162582" rpy="0 0 0"/>
      <mass value="0.0271577"/>
      <inertia ixx="5.36408e-06" ixy="-1.97814e-07" ixz="-2.8704e-09" iyy="3.96054e-06" iyz="5.88823e-09" izz="6.2876e-06"/>
    </inertial>
    <!-- Part angle_joint -->
    <visual>
      <origin xyz="8.60423e-16 1.94289e-16 5.20417e-17" rpy="-3.14159 -3.51464e-15 -0.455592"/>
      <geometry>
        <mesh filename="package://assets/angle_joint.stl"/>
      </geometry>
      <material name="angle_joint_material">
        <color rgba="0.615686 0.811765 0.929412 1"/>
      </material>
    </visual>
    <collision>
      <origin xyz="8.60423e-16 1.94289e-16 5.20417e-17" rpy="-3.14159 -3.51464e-15 -0.455592"/>
      <geometry>
        <mesh filename="package://assets/angle_joint.stl"/>
      </geometry>
    </collision>
    <!-- Part dc15_a01_led_cap2_dummy_5 -->
    <visual>
      <origin xyz="-0.0171364 -0.0184968 -0.01625" rpy="-1.1152 1.5708 0"/>
      <geometry>
        <mesh filename="package://assets/dc15_a01_led_cap2_dummy.stl"/>
      </geometry>
      <material name="dc15_a01_led_cap2_dummy_5_material">
        <color rgba="0.768627 0.886275 0.952941 1"/>
      </material>
    </visual>
    <collision>
      <origin xyz="-0.0171364 -0.0184968 -0.01625" rpy="-1.1152 1.5708 0"/>
      <geometry>
        <mesh filename="package://assets/dc15_a01_led_cap2_dummy.stl"/>
      </geometry>
    </collision>
    <!-- Part bts2_m2_6x8_9 -->
    <visual>
      <origin xyz="-0.0203012 -0.0420017 -0.01625" rpy="-2.686 1.5708 0"/>
      <geometry>
        <mesh filename="package://assets/bts2_m2_6x8.stl"/>
      </geometry>
      <material name="bts2_m2_6x8_9_material">
        <color rgba="0.980392 0.713725 0.00392157 1"/>
      </material>
    </visual>
    <collision>
      <origin xyz="-0.0203012 -0.0420017 -0.01625" rpy="-2.686 1.5708 0"/>
      <geometry>
        <mesh filename="package://assets/bts2_m2_6x8.stl"/>
      </geometry>
    </collision>
    <!-- Part b3b_eh_9 -->
    <visual>
      <origin xyz="-0.00548731 -0.0322223 -0.02395" rpy="-3.14159 2.99176e-15 2.686"/>
      <geometry>
        <mesh filename="package://assets/b3b_eh.stl"/>
      </geometry>
      <material name="b3b_eh_9_material">
        <color rgba="0.972549 0.529412 0.00392157 1"/>
      </material>
    </visual>
    <collision>
      <origin xyz="-0.00548731 -0.0322223 -0.02395" rpy="-3.14159 2.99176e-15 2.686"/>
      <geometry>
        <mesh filename="package://assets/b3b_eh.stl"/>
      </geometry>
    </collision>
    <!-- Part b3b_eh_10 -->
    <visual>
      <origin xyz="-0.00548731 -0.0322223 -0.00855" rpy="-2.35125e-14 -3.43717e-15 -0.455592"/>
      <geometry>
        <mesh filename="package://assets/b3b_eh.stl"/>
      </geometry>
      <material name="b3b_eh_10_material">
        <color rgba="0.972549 0.529412 0.00392157 1"/>
      </material>
    </visual>
    <collision>
      <origin xyz="-0.00548731 -0.0322223 -0.00855" rpy="-2.35125e-14 -3.43717e-15 -0.455592"/>
      <geometry>
        <mesh filename="package://assets/b3b_eh.stl"/>
      </geometry>
    </collision>
    <!-- Part dc15_a01_case_m_dummy_5 -->
    <visual>
      <origin xyz="-0.0181453 -0.0376015 -0.01625" rpy="1.1152 -1.5708 0"/>
      <geometry>
        <mesh filename="package://assets/dc15_a01_case_m_dummy.stl"/>
      </geometry>
      <material name="dc15_a01_case_m_dummy_5_material">
        <color rgba="0.615686 0.811765 0.929412 1"/>
      </material>
    </visual>
    <collision>
      <origin xyz="-0.0181453 -0.0376015 -0.01625" rpy="1.1152 -1.5708 0"/>
      <geometry>
        <mesh filename="package://assets/dc15_a01_case_m_dummy.stl"/>
      </geometry>
    </collision>
    <!-- Part bts2_m2_6x8_10 -->
    <visual>
      <origin xyz="-0.00903738 -0.0190129 -0.01625" rpy="-0.455592 -1.5708 0"/>
      <geometry>
        <mesh filename="package://assets/bts2_m2_6x8.stl"/>
      </geometry>
      <material name="bts2_m2_6x8_10_material">
        <color rgba="0.980392 0.713725 0.00392157 1"/>
      </material>
    </visual>
    <collision>
      <origin xyz="-0.00903738 -0.0190129 -0.01625" rpy="-0.455592 -1.5708 0"/>
      <geometry>
        <mesh filename="package://assets/bts2_m2_6x8.stl"/>
      </geometry>
    </collision>
    <!-- Part dc15_a01_horn_dummy_5 -->
    <visual>
      <origin xyz="-0.0197292 -0.0408343 -0.01625" rpy="-2.686 1.5708 0"/>
      <geometry>
        <mesh filename="package://assets/dc15_a01_horn_dummy.stl"/>
      </geometry>
      <material name="dc15_a01_horn_dummy_5_material">
        <color rgba="0.972549 0.529412 0.00392157 1"/>
      </material>
    </visual>
    <collision>
      <origin xyz="-0.0197292 -0.0408343 -0.01625" rpy="-2.686 1.5708 0"/>
      <geometry>
        <mesh filename="package://assets/dc15_a01_horn_dummy.stl"/>
      </geometry>
    </collision>
    <!-- Part dc15_a01_case_f_dummy_5 -->
    <visual>
      <origin xyz="-0.0181453 -0.0376015 -0.01625" rpy="1.1152 -1.5708 0"/>
      <geometry>
        <mesh filename="package://assets/dc15_a01_case_f_dummy.stl"/>
      </geometry>
      <material name="dc15_a01_case_f_dummy_5_material">
        <color rgba="0.980392 0.713725 0.00392157 1"/>
      </material>
    </visual>
    <collision>
      <origin xyz="-0.0181453 -0.0376015 -0.01625" rpy="1.1152 -1.5708 0"/>
      <geometry>
        <mesh filename="package://assets/dc15_a01_case_f_dummy.stl"/>
      </geometry>
    </collision>
    <!-- Part dc15_a01_case_b_dummy_5 -->
    <visual>
      <origin xyz="-0.00956537 -0.0200905 -0.01625" rpy="1.1152 -1.5708 0"/>
      <geometry>
        <mesh filename="package://assets/dc15_a01_case_b_dummy.stl"/>
      </geometry>
      <material name="dc15_a01_case_b_dummy_5_material">
        <color rgba="0.498039 0.498039 0.498039 1"/>
      </material>
    </visual>
    <collision>
      <origin xyz="-0.00956537 -0.0200905 -0.01625" rpy="1.1152 -1.5708 0"/>
      <geometry>
        <mesh filename="package://assets/dc15_a01_case_b_dummy.stl"/>
      </geometry>
    </collision>
    <!-- Part dc15_a01_horn_idle2_dummy_5 -->
    <visual>
      <origin xyz="-0.00952137 -0.0200007 -0.01625" rpy="-2.02639 -1.5708 0"/>
      <geometry>
        <mesh filename="package://assets/dc15_a01_horn_idle2_dummy.stl"/>
      </geometry>
      <material name="dc15_a01_horn_idle2_dummy_5_material">
        <color rgba="0.647059 0.647059 0.647059 1"/>
      </material>
    </visual>
    <collision>
      <origin xyz="-0.00952137 -0.0200007 -0.01625" rpy="-2.02639 -1.5708 0"/>
      <geometry>
        <mesh filename="package://assets/dc15_a01_horn_idle2_dummy.stl"/>
      </geometry>
    </collision>
    <!-- Part dc15_a01_idle_cap_dummy_5 -->
    <visual>
      <origin xyz="-0.00833339 -0.0175761 -0.01625" rpy="-0.455592 -1.5708 0"/>
      <geometry>
        <mesh filename="package://assets/dc15_a01_idle_cap_dummy.stl"/>
      </geometry>
      <material name="dc15_a01_idle_cap_dummy_5_material">
        <color rgba="0.615686 0.811765 0.929412 1"/>
      </material>
    </visual>
    <collision>
      <origin xyz="-0.00833339 -0.0175761 -0.01625" rpy="-0.455592 -1.5708 0"/>
      <geometry>
        <mesh filename="package://assets/dc15_a01_idle_cap_dummy.stl"/>
      </geometry>
    </collision>
  </link>
  <!-- Link lamp_head -->
  <link name="lamp_head">
    <inertial>
      <origin xyz="-1.29122e-07 1.66808e-08 -0.0356164" rpy="0 0 0"/>
      <mass value="0.0121476"/>
      <inertia ixx="1.25237e-05" ixy="-4.37816e-12" ixz="-2.51697e-11" iyy="1.25237e-05" iyz="3.08887e-11" izz="1.09368e-05"/>
    </inertial>
    <!-- Part lamp_head -->
    <visual>
      <origin xyz="0 2.77556e-17 -0.08014" rpy="6.6693e-18 3.16794e-18 -5.60205e-17"/>
      <geometry>
        <mesh filename="package://assets/lamp_head.stl"/>
      </geometry>
      <material name="lamp_head_material">
        <color rgba="0.615686 0.811765 0.929412 1"/>
      </material>
    </visual>
    <collision>
      <origin xyz="0 2.77556e-17 -0.08014" rpy="6.6693e-18 3.16794e-18 -5.60205e-17"/>
      <geometry>
        <mesh filename="package://assets/lamp_head.stl"/>
      </geometry>
    </collision>
  </link>
  <!-- Joint from angle_joint to lamp_head -->
  <joint name="5" type="revolute">
    <origin xyz="-0.0209172 -0.0432589 -0.01625" rpy="-1.5708 1.1828 -0.455592"/>
    <parent link="angle_joint"/>
    <child link="lamp_head"/>
    <axis xyz="0 0 1"/>
    <limit effort="10" velocity="10" lower="-3.141592653589793" upper="3.141592653589793"/>
  </joint>
  <!-- Joint from arm_length_10cm to angle_joint -->
  <joint name="4" type="revolute">
    <origin xyz="0.00025 -0.14925 0.0008" rpy="-2.161e-14 1.12133e-14 1.83203e-14"/>
    <parent link="arm_length_10cm"/>
    <child link="angle_joint"/>
    <axis xyz="0 0 1"/>
    <limit effort="10" velocity="10" lower="-3.141592653589793" upper="3.141592653589793"/>
  </joint>
  <!-- Joint from dc15_a01_dummy_assy_idle_asm_2 to arm_length_10cm -->
  <joint name="2" type="revolute">
    <origin xyz="0.115615 -0.162277 0.0008" rpy="-5.9156e-15 2.02757e-15 -1.47506"/>
    <parent link="dc15_a01_dummy_assy_idle_asm_2"/>
    <child link="arm_length_10cm"/>
    <axis xyz="0 0 1"/>
    <limit effort="10" velocity="10" lower="-3.141592653589793" upper="3.141592653589793"/>
  </joint>
  <!-- Joint from square_joint to dc15_a01_dummy_assy_idle_asm_2 -->
  <joint name="3" type="revolute">
    <origin xyz="5.72708e-21 0.01405 0.03675" rpy="-1.5708 -0 -1.31899e-18"/>
    <parent link="square_joint"/>
    <child link="dc15_a01_dummy_assy_idle_asm_2"/>
    <axis xyz="0 0 1"/>
    <limit effort="10" velocity="10" lower="-3.141592653589793" upper="3.141592653589793"/>
  </joint>
  <!-- Joint from dc15_a01_dummy_assy_idle_asm to square_joint -->
  <joint name="1" type="revolute">
    <origin xyz="2.71051e-20 0.0286 -6.50521e-19" rpy="1.5708 0.0440079 3.14159"/>
    <parent link="dc15_a01_dummy_assy_idle_asm"/>
    <child link="square_joint"/>
    <axis xyz="0 0 1"/>
    <limit effort="10" velocity="10" lower="-3.141592653589793" upper="3.141592653589793"/>
  </joint>
</robot>
